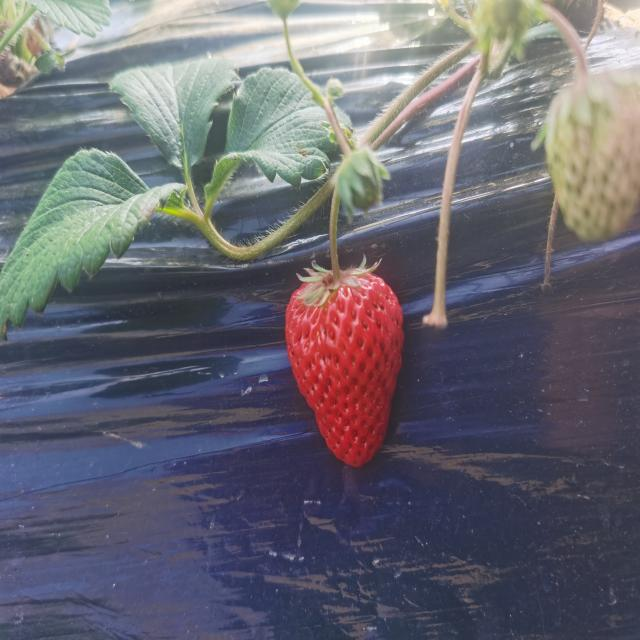stem: (329, 205, 342, 281)
strawberry: (286, 270, 404, 468)
